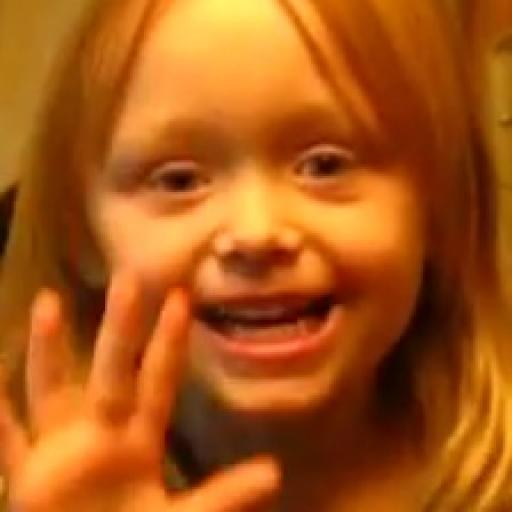Autism: (71, 16, 425, 488)
